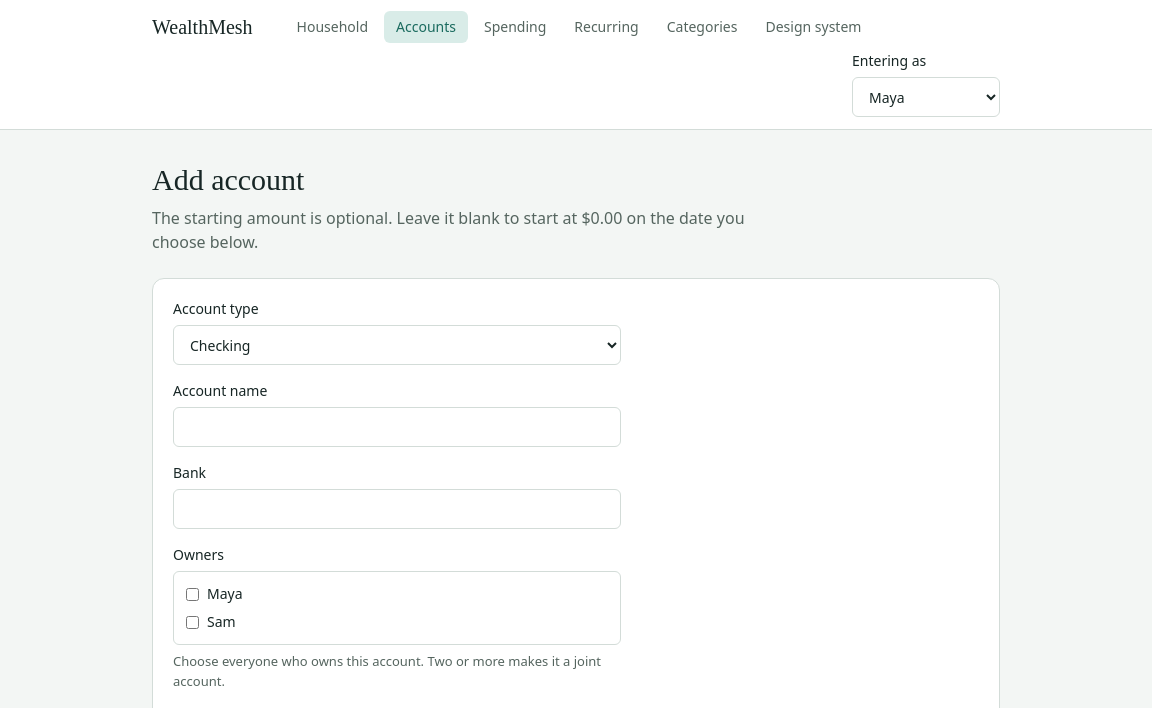
adding a defined benefit › V2_DB_006 no participant chosen is explained and nothing is requested
This screenshot has width=1152, height=708.
Select "Defined benefit" in the dropdown labelled "Account type" at (397, 345), box [173,325,621,365]
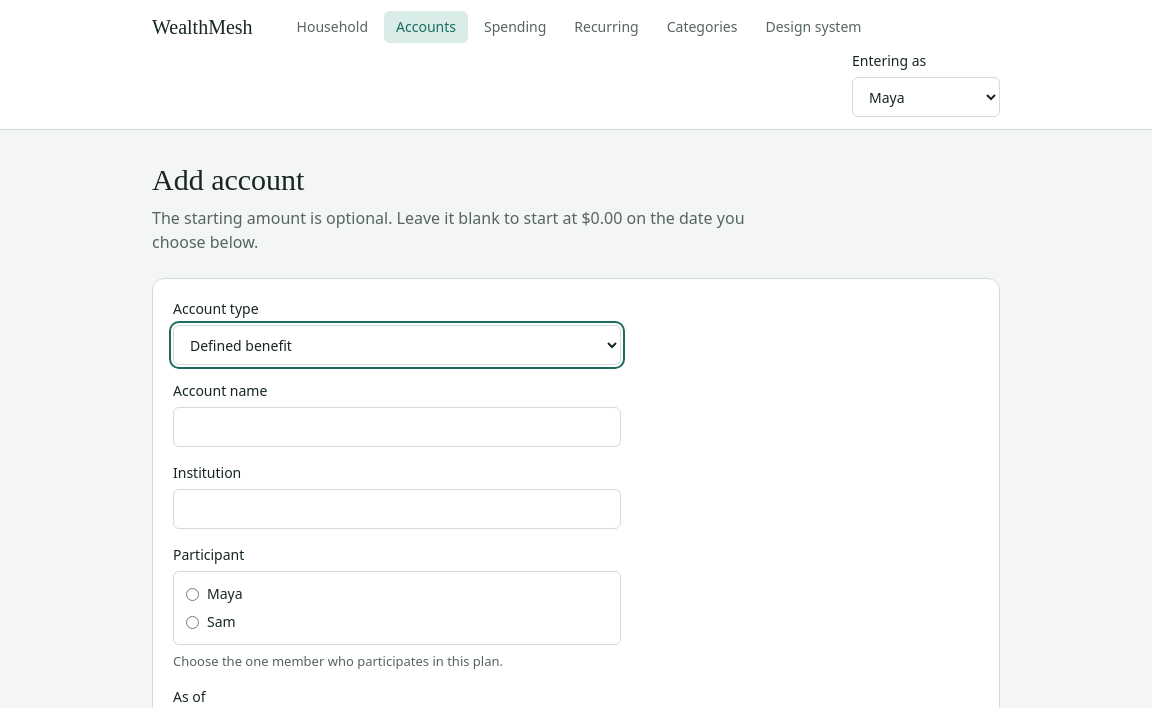
Type "Harbor Cash Balance" into the field labelled "Account name" at (397, 427), box [173,407,621,447]
(page scrolled)
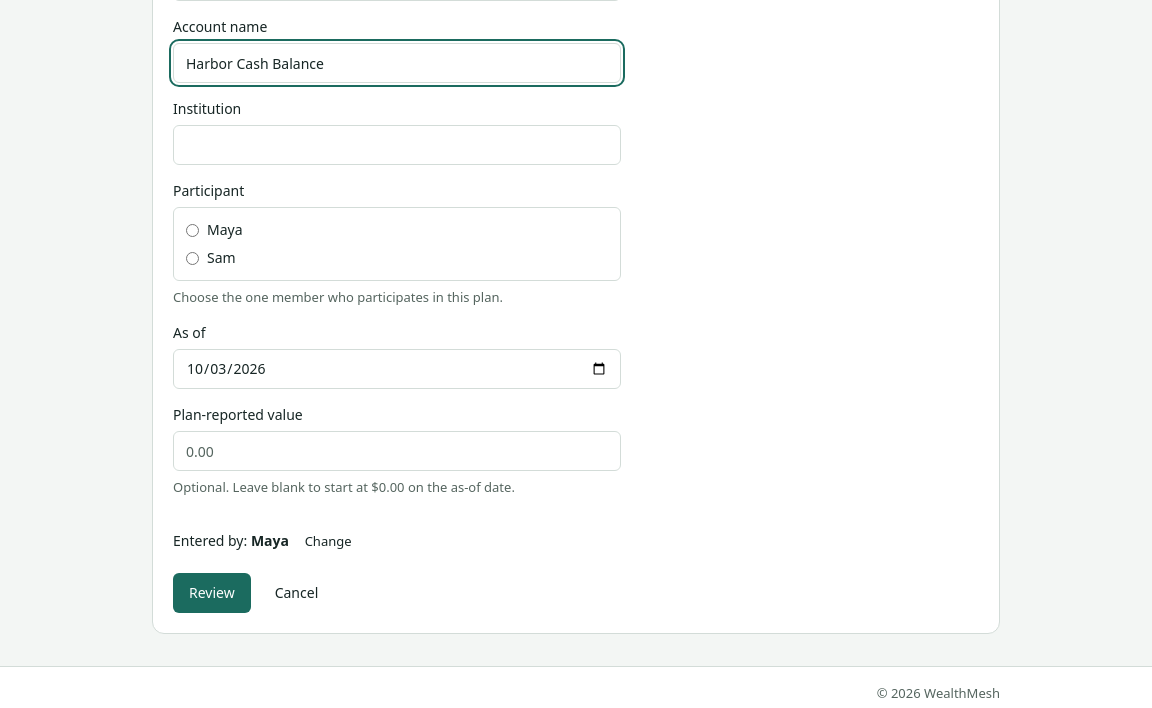
Click the button "Review" at (212, 593), box [173,573,251,613]
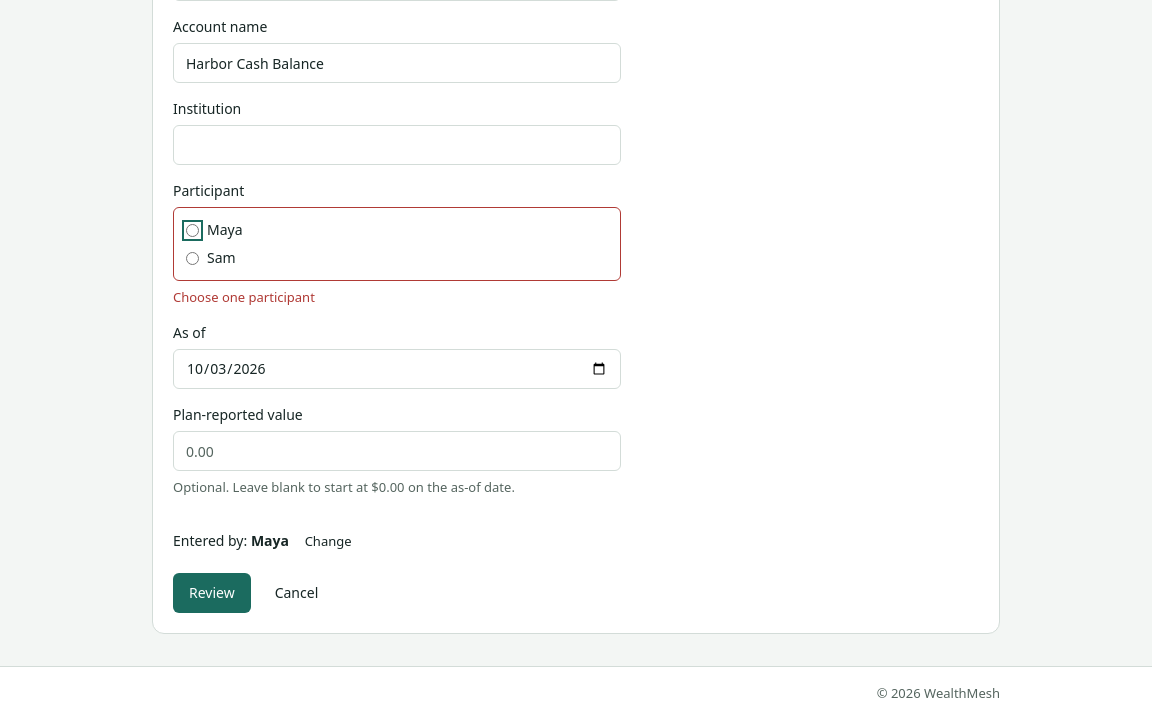
Result: the text "Choose one participant" is shown at [173,288,315,306]
